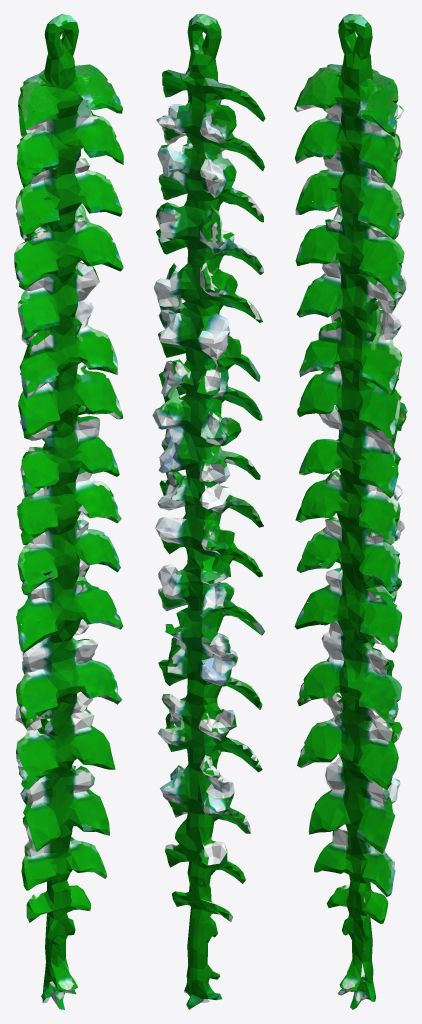
File: hanging_vine.glb
3 views of the same model, side by side, from view 1: azimuth 30°, elevation 25°; view 2: azimuth 150°, elevation 25°; view 3: azimuth 330°, elevation 25° (orthographic).
Visible parts, largest first — view 1: tmpjjuk3xfl.ply; view 2: tmpjjuk3xfl.ply; view 3: tmpjjuk3xfl.ply.
Part boxes in pixels (<box>): tmpjjuk3xfl.ply: <box>14,14,123,1009</box>; tmpjjuk3xfl.ply: <box>152,14,265,1009</box>; tmpjjuk3xfl.ply: <box>294,14,407,1009</box>.
Bounding box in the file's own units: 0.2161 × 1.99 × 0.1284.
Materials: 1 (1 with a texture image).
